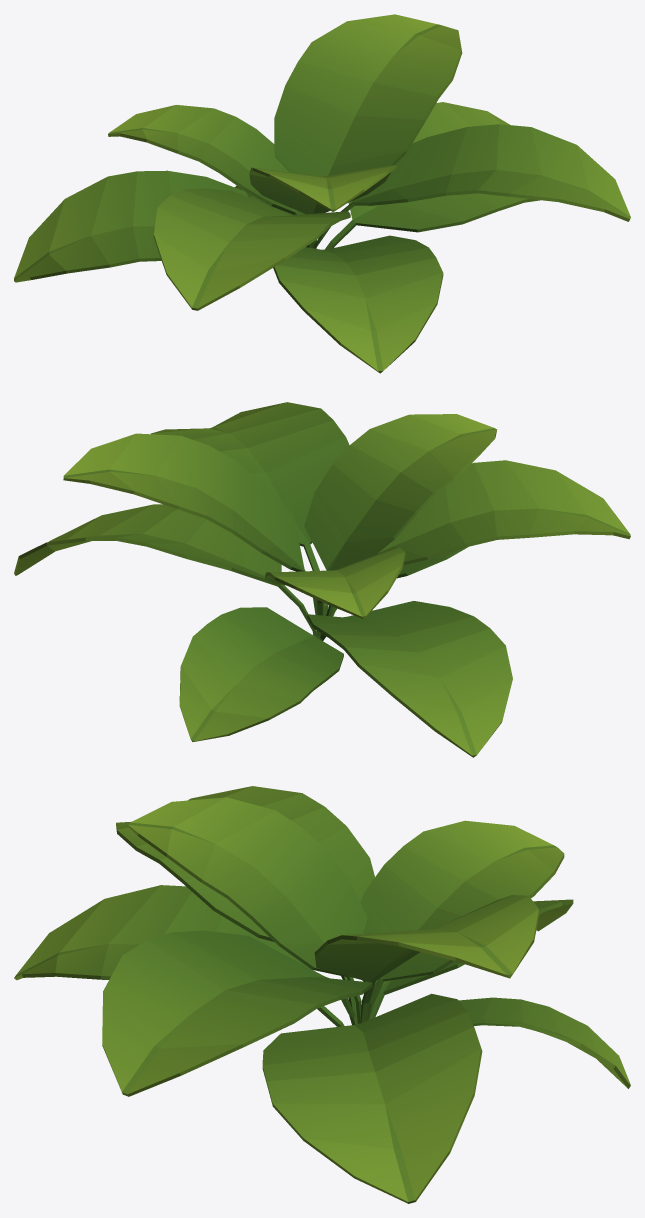
The model's file is Plant_03.fbx.
The picture shows the model from 3 angles, top to bottom: view 1: azimuth 30°, elevation 25°; view 2: azimuth 150°, elevation 25°; view 3: azimuth 270°, elevation 25°; orthographic projection. The views are drawn at different scales.
Parts seen in each view (by area): view 1: Plant_03; view 2: Plant_03; view 3: Plant_03.
Boxes of the visible parts, x1,y1,x2,y2 form: Plant_03: (14,14,630,373); Plant_03: (14,402,630,757); Plant_03: (14,786,630,1203).
Bounding box in the file's own units: 0.8802 × 0.3358 × 0.7677.
